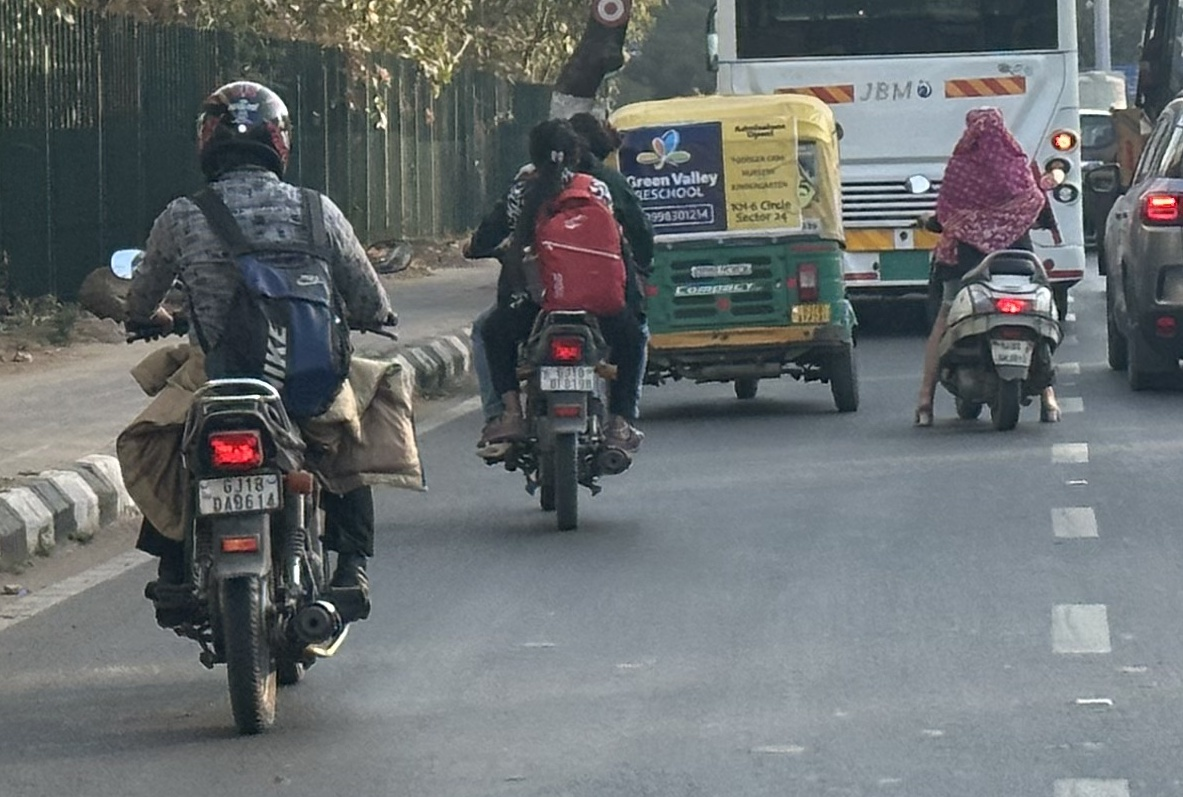BikeWithRider: (106, 75, 426, 737), (462, 103, 662, 535), (899, 98, 1072, 434)
Helmet: (190, 77, 296, 180)
NoHelmet: (524, 116, 590, 175), (558, 104, 617, 167), (950, 100, 1012, 157)
